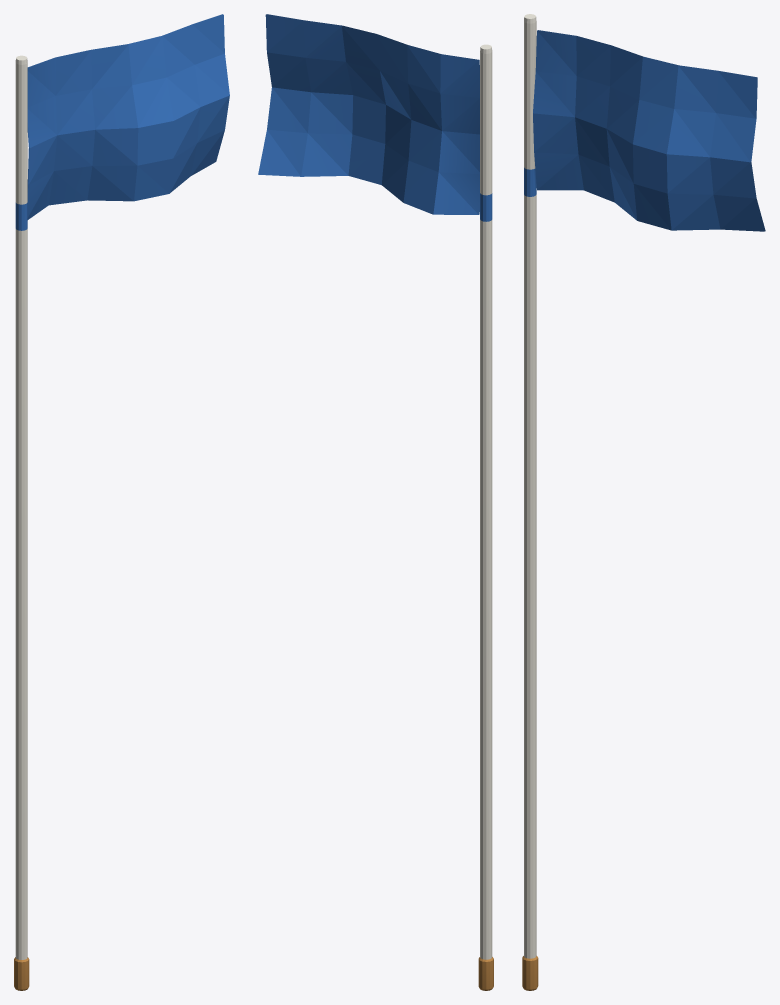
File: flagstick_blue.glb
3 views of the same model, side by side, from view 1: azimuth 30°, elevation 25°; view 2: azimuth 150°, elevation 25°; view 3: azimuth 330°, elevation 25° (orthographic). The views are drawn at different scales.
Parts seen in each view (by area): view 1: Flag, Pole; view 2: Flag, Pole; view 3: Flag, Pole.
Part boxes in pixels (x1,y1,x2,y2): Flag: [27, 14, 229, 219]; Pole: [14, 55, 29, 990]; Flag: [258, 14, 479, 214]; Pole: [478, 44, 493, 990]; Flag: [533, 30, 765, 231]; Pole: [522, 14, 538, 990].
Size of the model in its own units: 0.5183 by 2.13 by 0.1102.
Materials: 1 (1 with a texture image).
